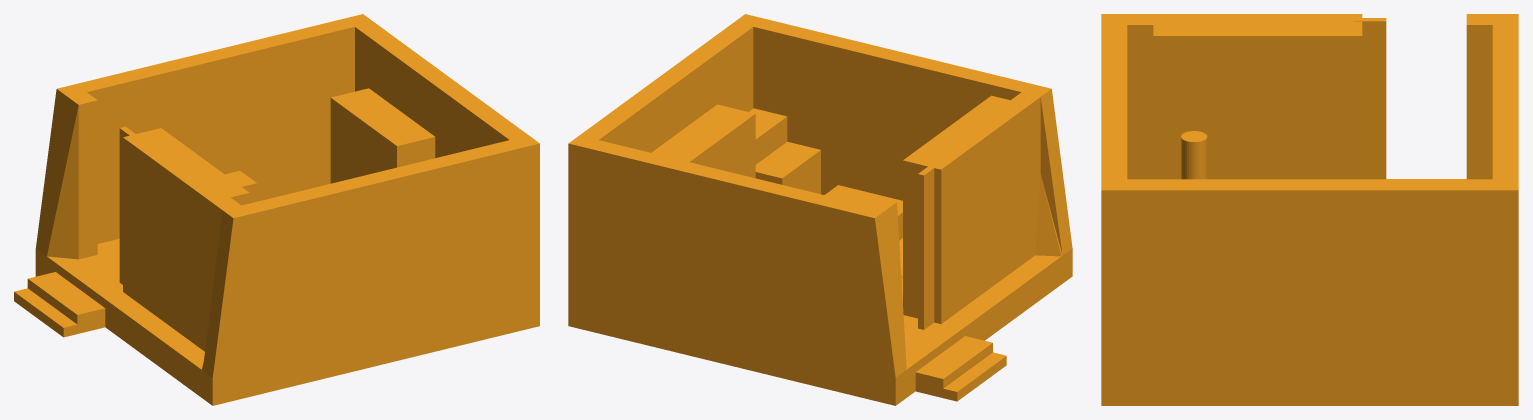
3 renders of one model, left to right at view 1: azimuth 30°, elevation 25°; view 2: azimuth 150°, elevation 25°; view 3: azimuth 270°, elevation 25°, orthographic. The views are drawn at different scales.
Visible parts, largest first — view 1: home; view 2: home; view 3: home.
Part boxes in pixels (bbox=[...]): home: bbox=[14, 14, 539, 405]; home: bbox=[568, 14, 1072, 405]; home: bbox=[1101, 14, 1518, 405].
Bounding box in the file's own units: 3.65 × 1.73 × 3.03.
